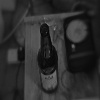beer: (35, 22, 66, 99)
